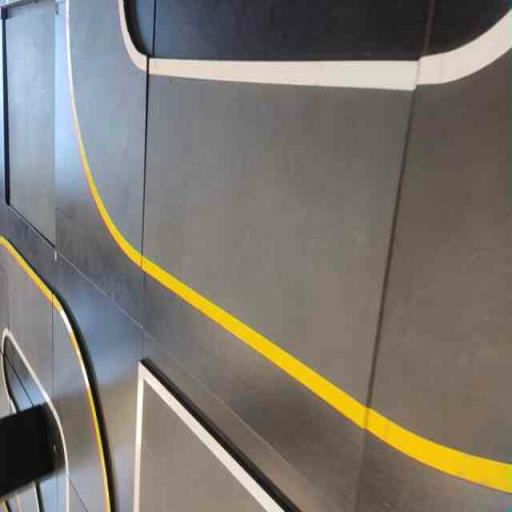straight: (140, 28, 424, 497)
